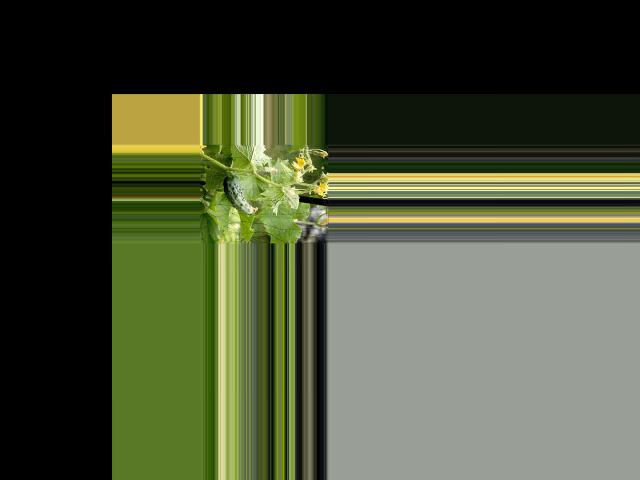cucumber: (223, 173, 258, 214)
